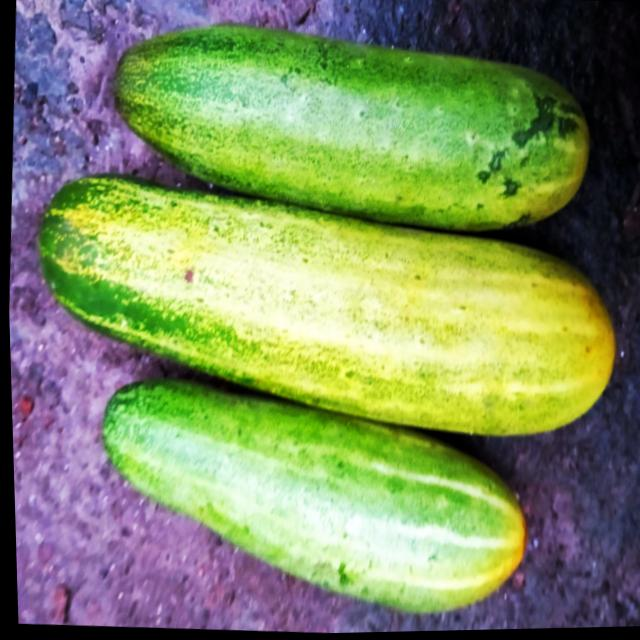Fresh-Cucumber: (23, 160, 627, 455), (101, 10, 600, 252), (85, 363, 534, 631)
